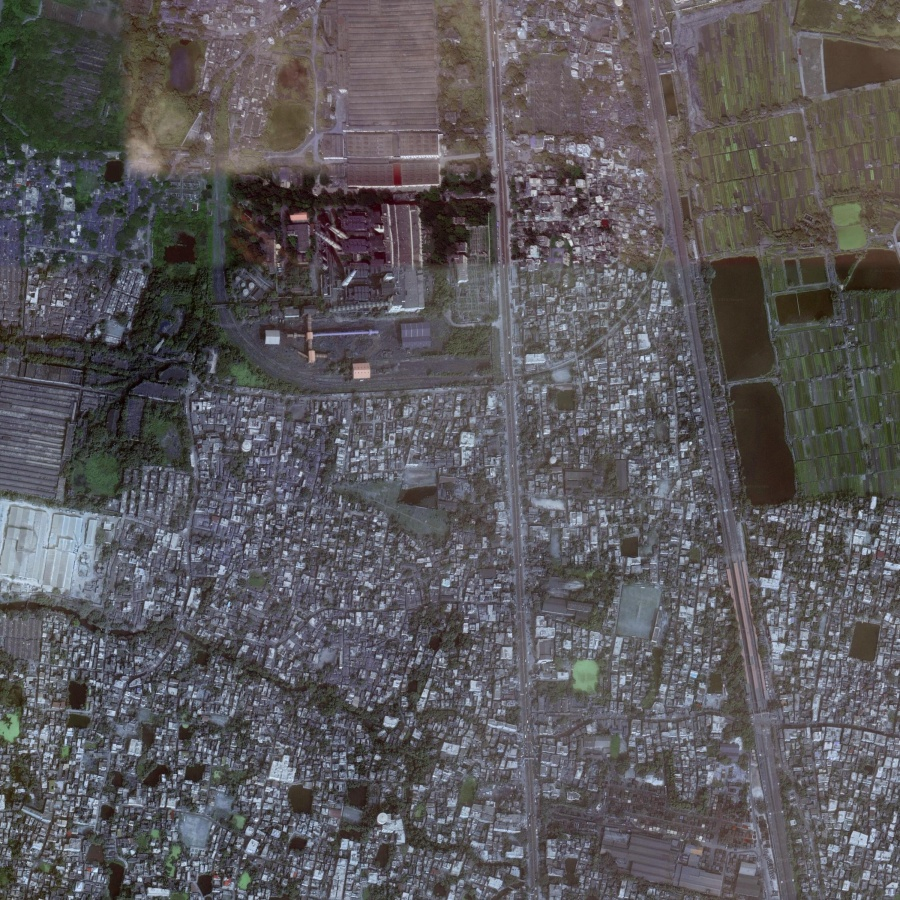PowerPlant: (219, 139, 464, 378)
